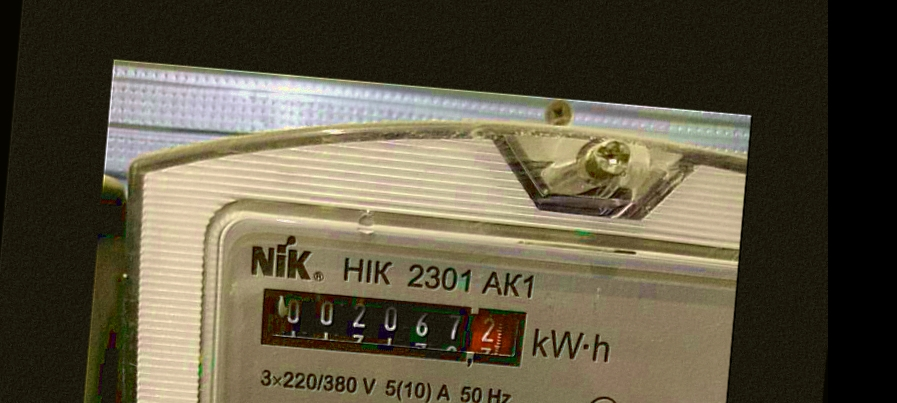0: (282, 296, 303, 327), (316, 297, 336, 328), (379, 303, 399, 332)
2: (477, 314, 498, 345), (349, 300, 369, 330)
6: (412, 309, 432, 339)
7: (444, 311, 463, 343)
screen: (243, 274, 541, 381)
